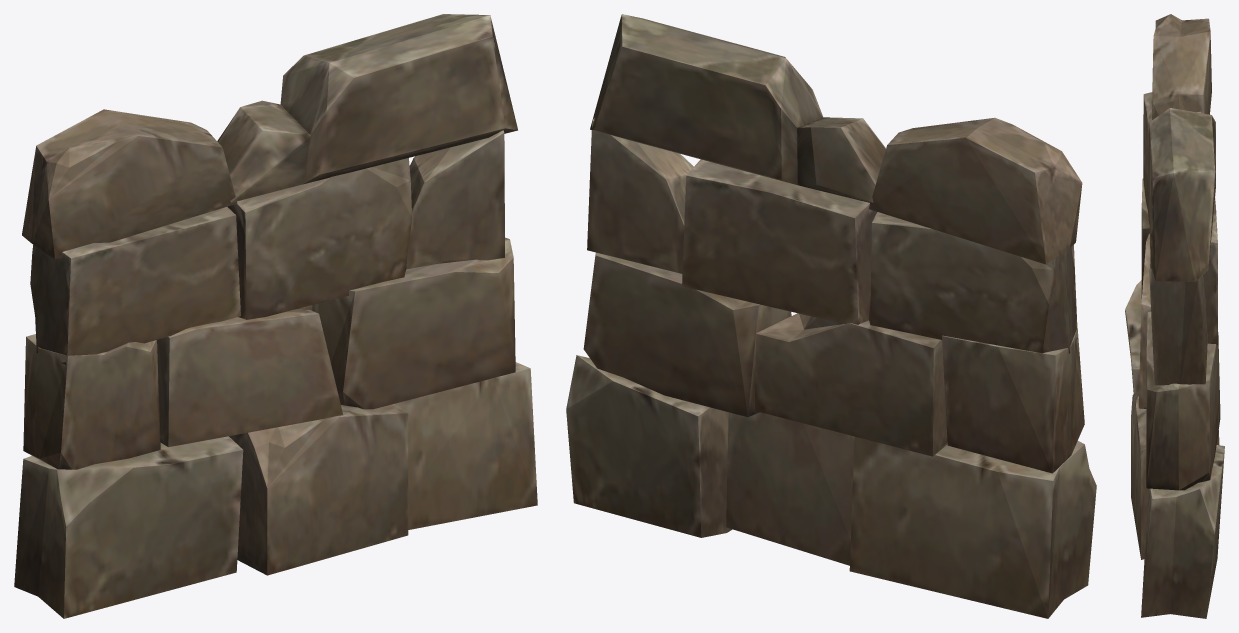
Rendered from nashgar_object_ruinswall_a.FBX.
The picture shows the model from 3 angles, left to right: view 1: azimuth 30°, elevation 25°; view 2: azimuth 150°, elevation 25°; view 3: azimuth 270°, elevation 25°; orthographic projection. The views are drawn at different scales.
Visible parts, largest first — view 1: nashgar_object_ruinswall_a; view 2: nashgar_object_ruinswall_a; view 3: nashgar_object_ruinswall_a.
Part boxes in pixels (x1,y1,x2,y2): nashgar_object_ruinswall_a: (14,14,537,618); nashgar_object_ruinswall_a: (566,14,1096,618); nashgar_object_ruinswall_a: (1125,14,1224,618).
Size of the model in its own units: 4.27 by 4.09 by 0.851.
